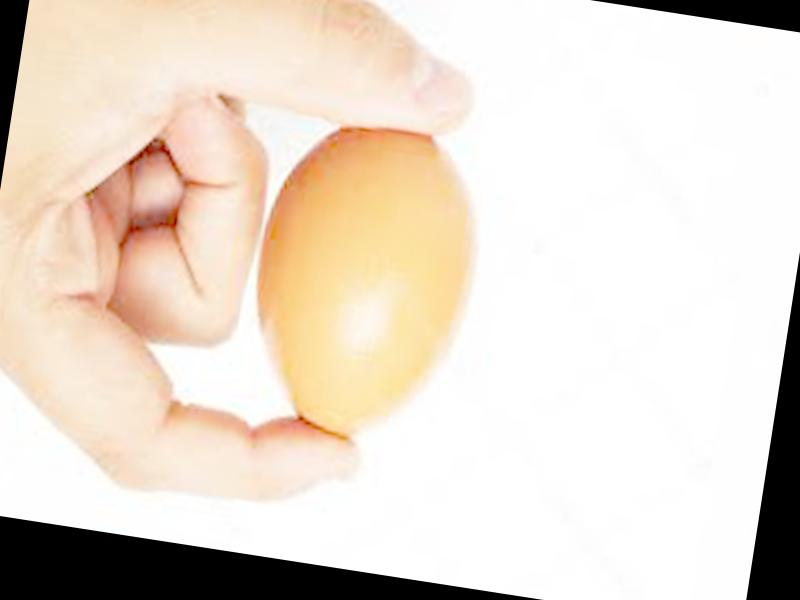Eggs: (232, 110, 496, 458)
